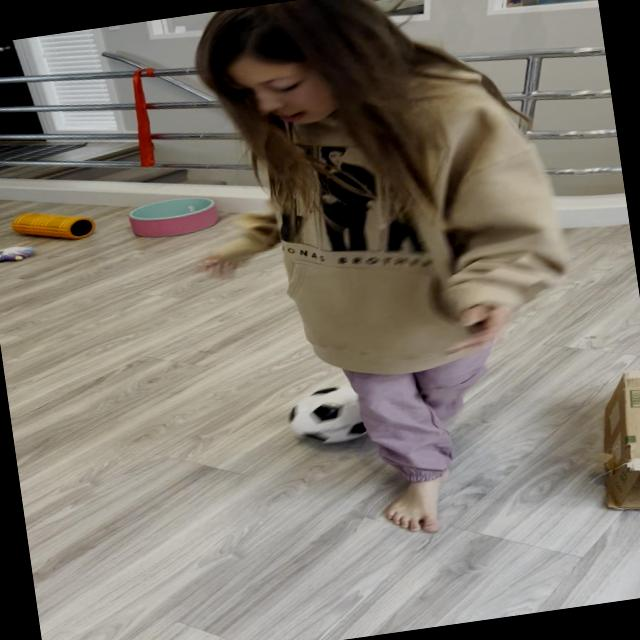Soccer Ball: (288, 380, 384, 449)
